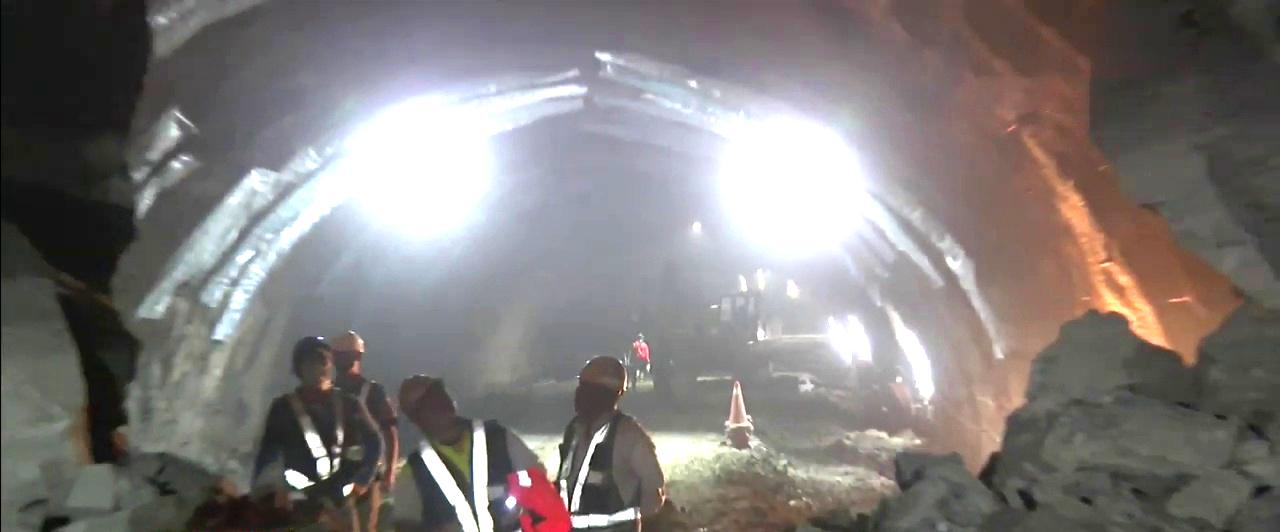helmet: (574, 355, 627, 416), (399, 374, 456, 429), (289, 336, 333, 378), (332, 329, 366, 376)
